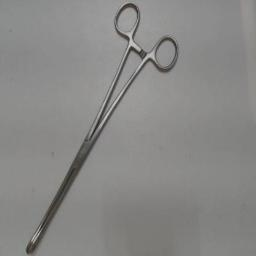Sponge Forceps: (24, 0, 182, 256)
